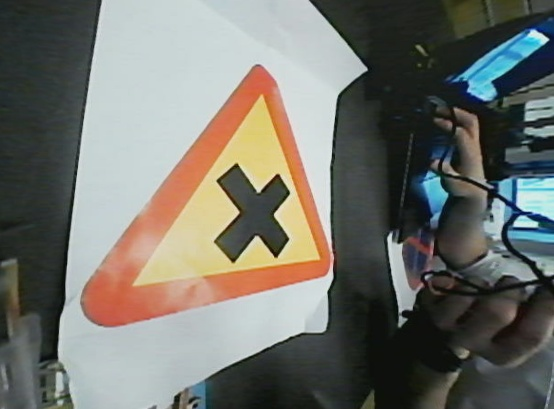junction: (76, 62, 341, 344)
